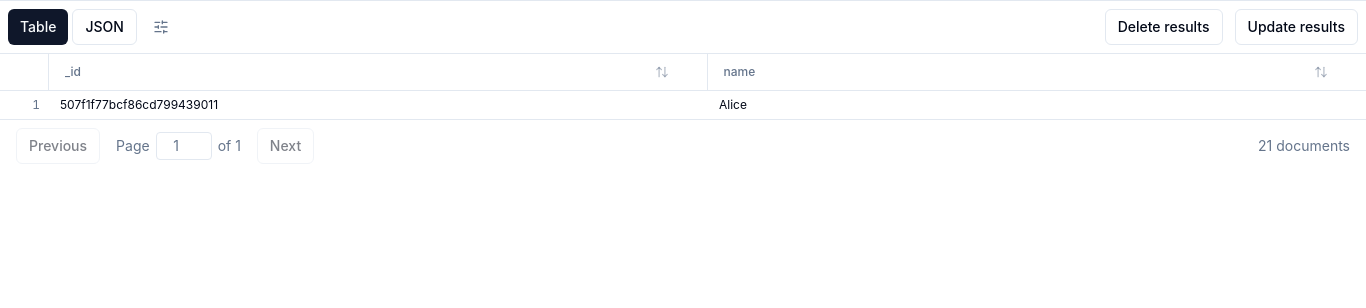
Test case: ResultsPanel › switches the loaded page to read-only EJSON without another request and keeps actions above the result
Check: the button named "Projection options" is shown, box 149,15 -> 173,39
Check: the button "Delete results" is shown, box 1105,9 -> 1222,45
Click the button "JSON" at (105, 27), box 72,9 -> 137,45
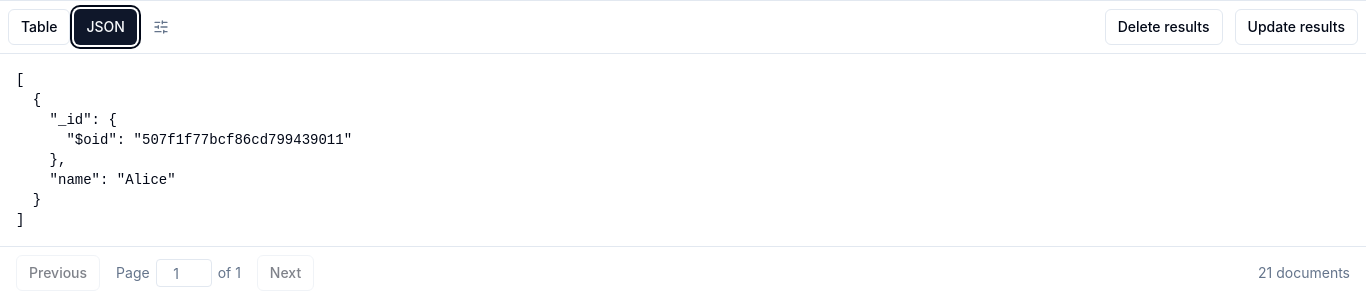
Check: the navigation bar named "Pagination" is shown, box 16,255 -> 314,291
Check: the table is gone
